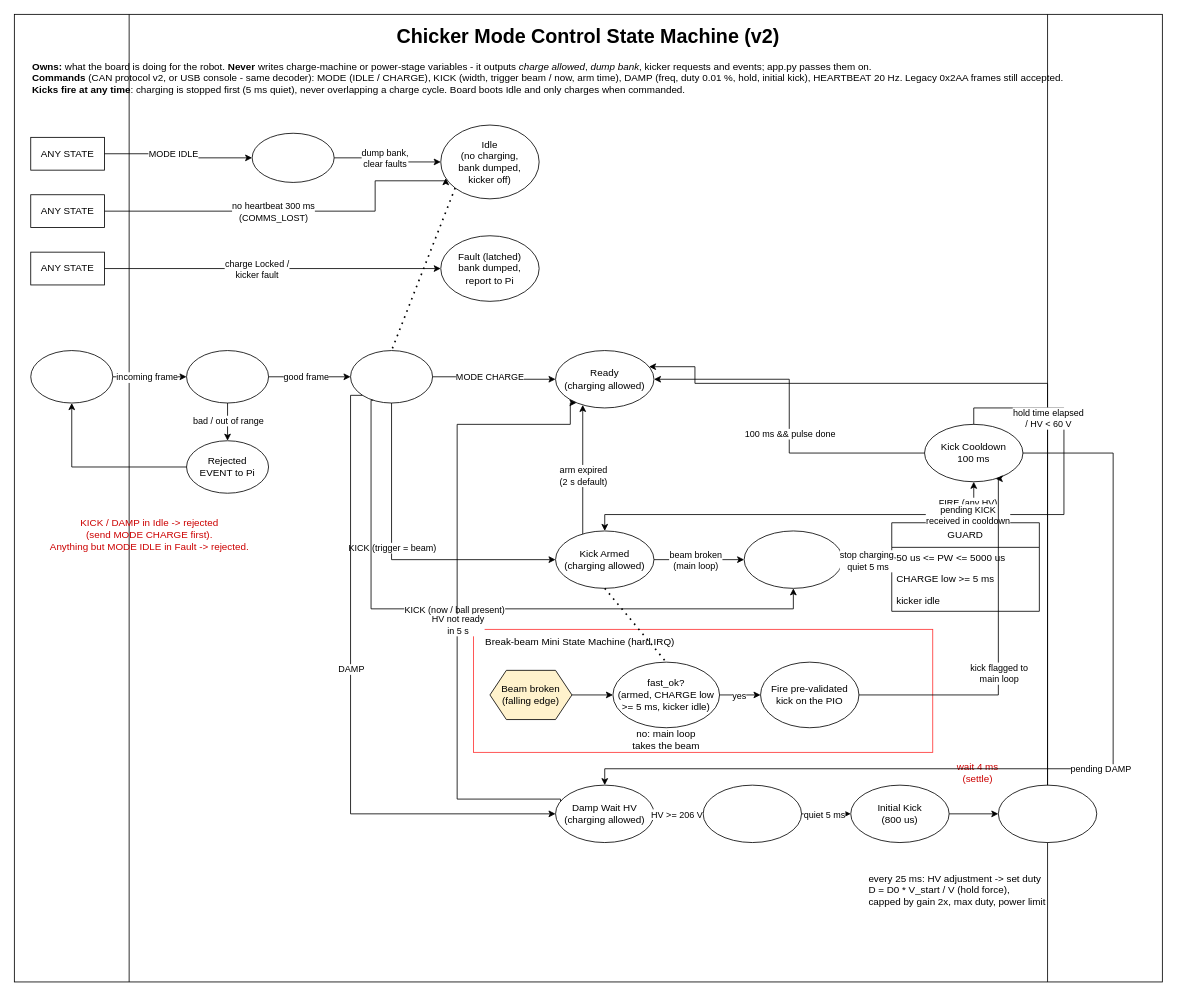
This 1177x996 diagram has some shape labels left out. The centre of each missing label's shape, as x and y in pixels:
"abort kicker stop PWM" goes at (x=292, y=157).
"Command Received" goes at (x=391, y=376).
"Damp Hold PIO PWM" goes at (x=1047, y=813).
"Damp Prep (charging stopped)" goes at (x=752, y=813).
"Kick Prep (charging stopped)" goes at (x=793, y=559).
"Parse (protocol.py)" goes at (x=227, y=376).
"Wait for Command" goes at (x=71, y=376).
